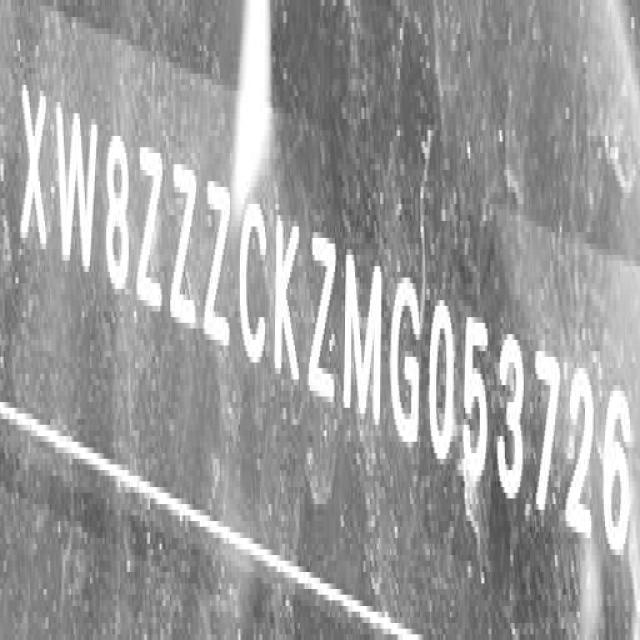0: (427, 290, 457, 471)
2: (567, 357, 597, 548)
3: (498, 320, 528, 516)
5: (464, 304, 492, 494)
6: (602, 372, 636, 564)
7: (536, 331, 563, 533)
8: (106, 127, 133, 302)
C: (238, 187, 271, 373)
G: (392, 262, 424, 458)
K: (274, 202, 303, 396)
M: (342, 243, 384, 436)
W: (56, 94, 101, 291)
X: (18, 76, 51, 269)
Z: (308, 221, 338, 418), (171, 150, 201, 336), (206, 166, 233, 360), (135, 138, 163, 323)
